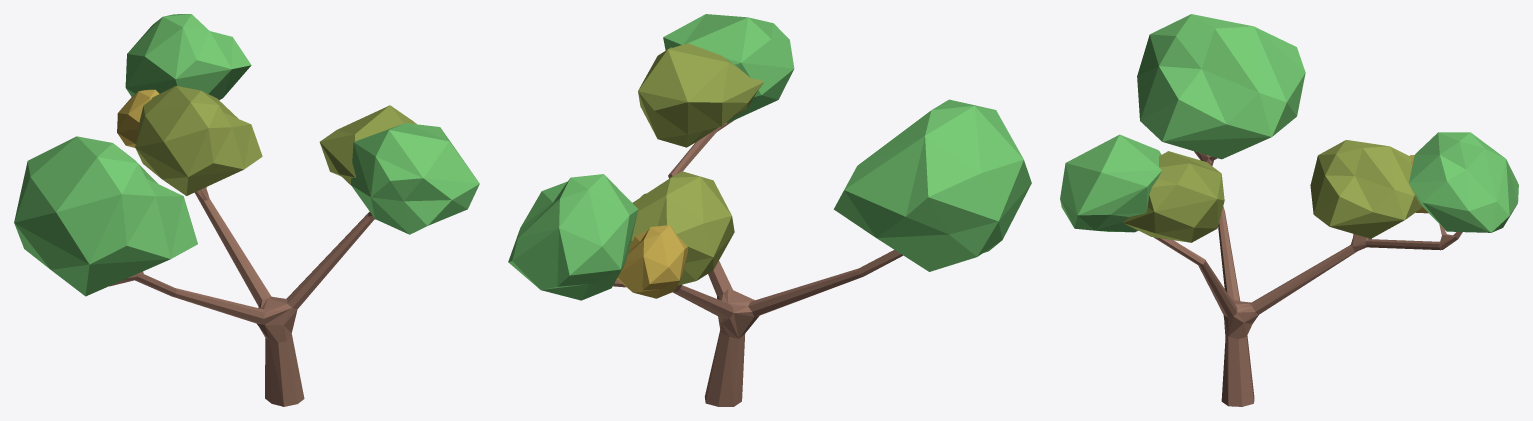
File: arbol1.fbx
3 renders of one model, left to right at view 1: azimuth 30°, elevation 25°; view 2: azimuth 150°, elevation 25°; view 3: azimuth 270°, elevation 25°, orthographic. The views are drawn at different scales.
Parts seen in each view (by area): view 1: Cube; view 2: Cube; view 3: Cube.
Boxes of the visible parts, x1,y1,x2,y2 form: Cube: (14, 14, 479, 406); Cube: (508, 14, 1031, 406); Cube: (1060, 14, 1518, 406).
Bounding box in the file's own units: 974 × 774 × 1112.
